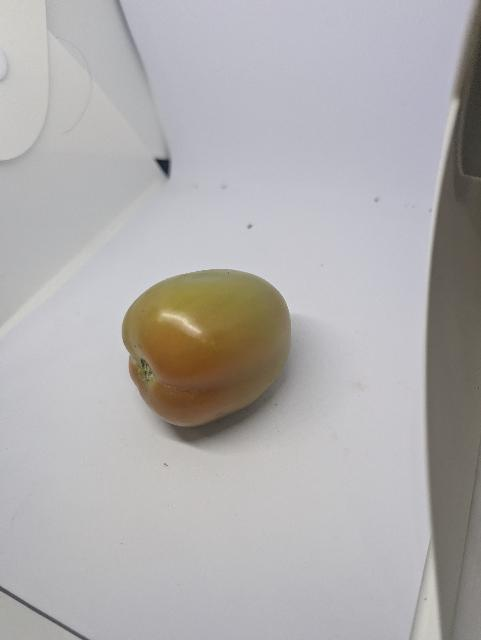breaker: (121, 265, 297, 438)
